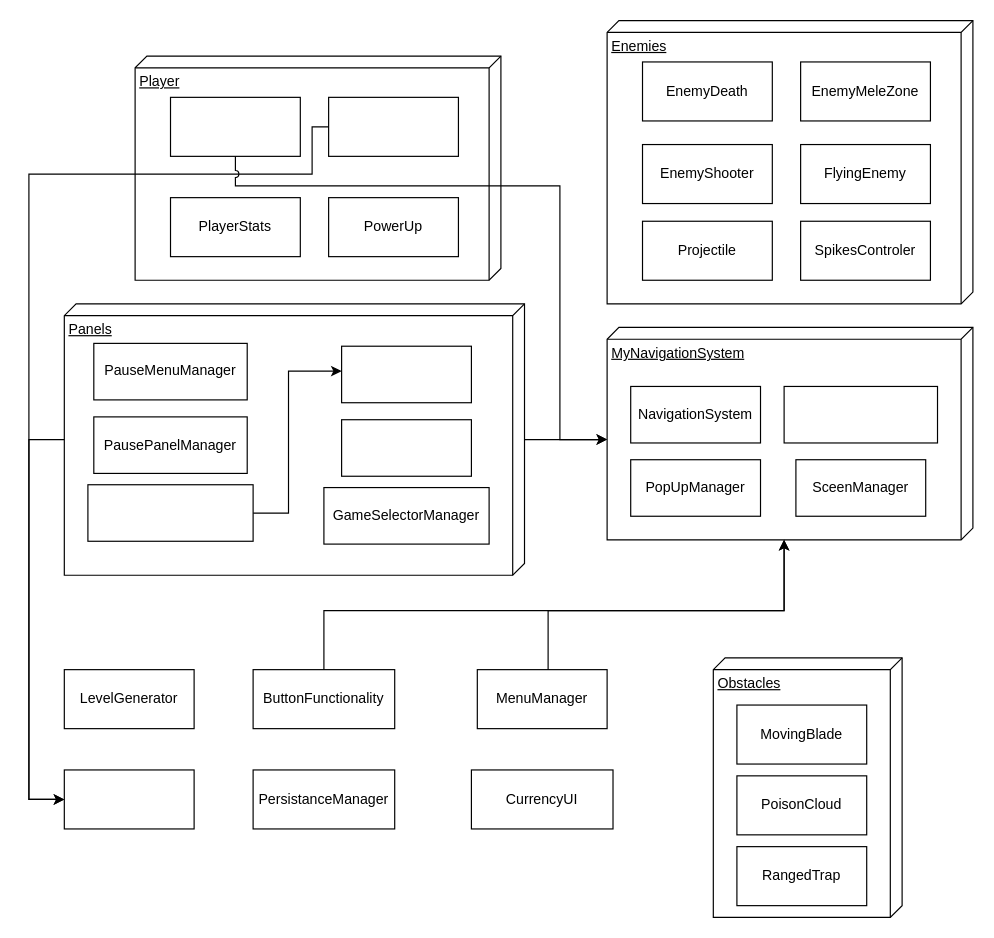
Image size: 994x938. Some labels were removed from this diagram. The shapes that lost their labels are listed below. From the top down, each one's centre as x and y in pixels, then its label:
[234,126]: PlayerHP
[392,126]: PlayerMovement
[405,374]: SettingsManager
[860,414]: PopUpAnimManager
[405,447]: ShopManager
[170,512]: LoadingScreenManager
[128,799]: AudioManager
